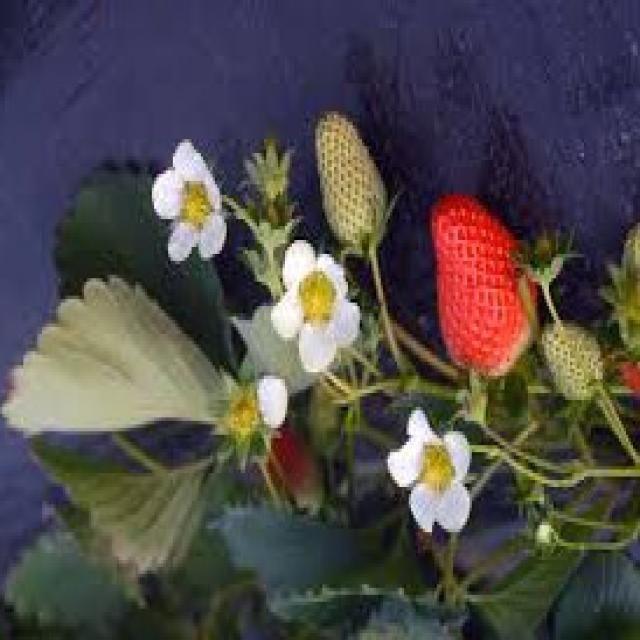immature: (316, 113, 390, 248), (542, 324, 604, 402)
mature: (431, 191, 540, 379)
